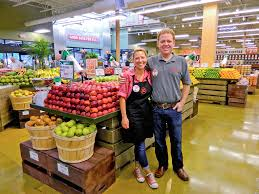Bad: (117, 28, 191, 188)
